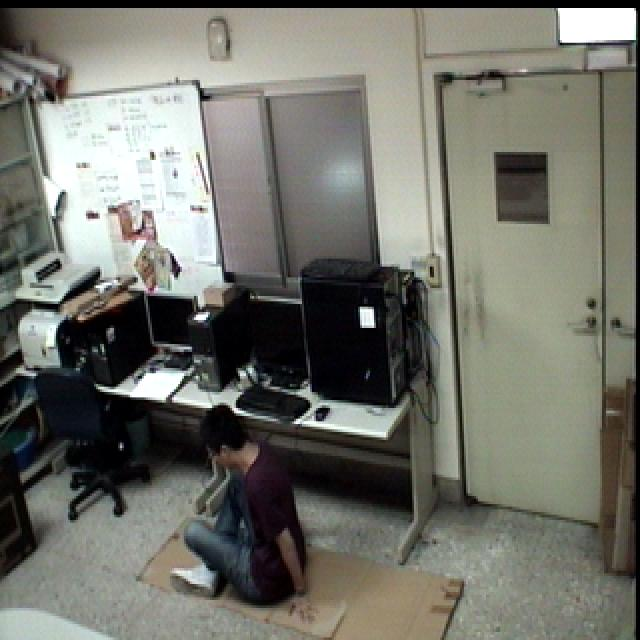sit: (160, 398, 321, 631)
